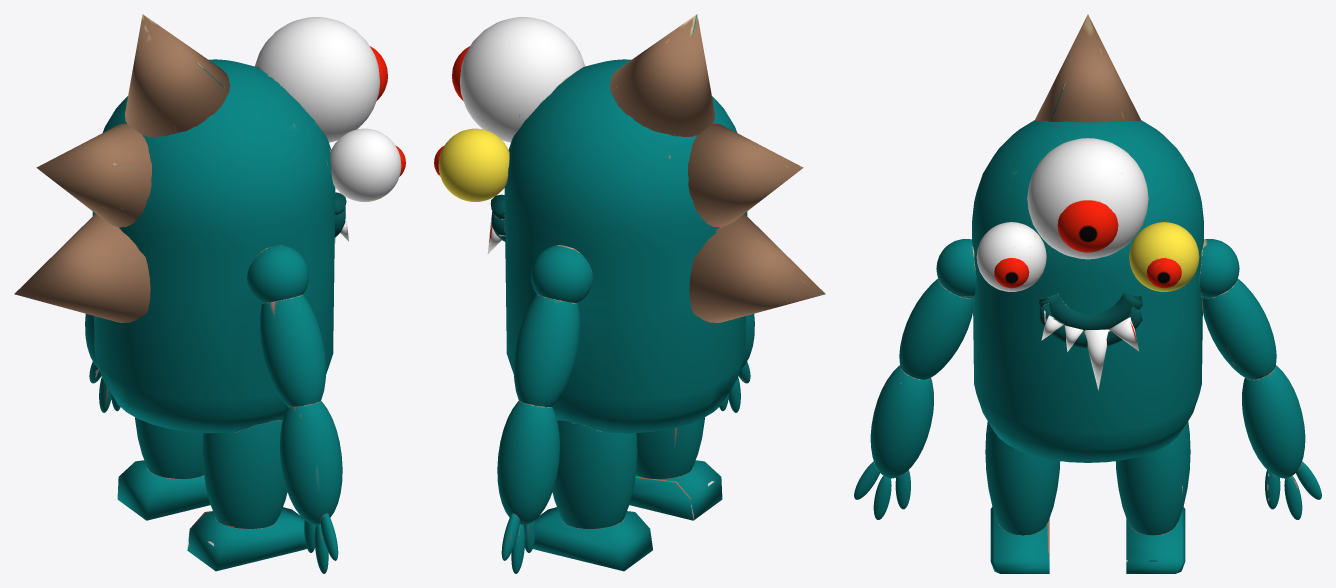
File: LongArmsMonster.fbx
3 views of the same model, side by side, from view 1: azimuth 30°, elevation 25°; view 2: azimuth 150°, elevation 25°; view 3: azimuth 270°, elevation 25° (orthographic). The views are drawn at different scales.
Visible parts, largest first — view 1: Cone.006; view 2: Cone.006; view 3: Cone.006.
Part boxes in pixels (bbox=[...]): Cone.006: bbox=[14, 14, 405, 573]; Cone.006: bbox=[434, 14, 825, 573]; Cone.006: bbox=[854, 14, 1321, 573].
Bounding box in the file's own units: 350 × 477 × 403.
